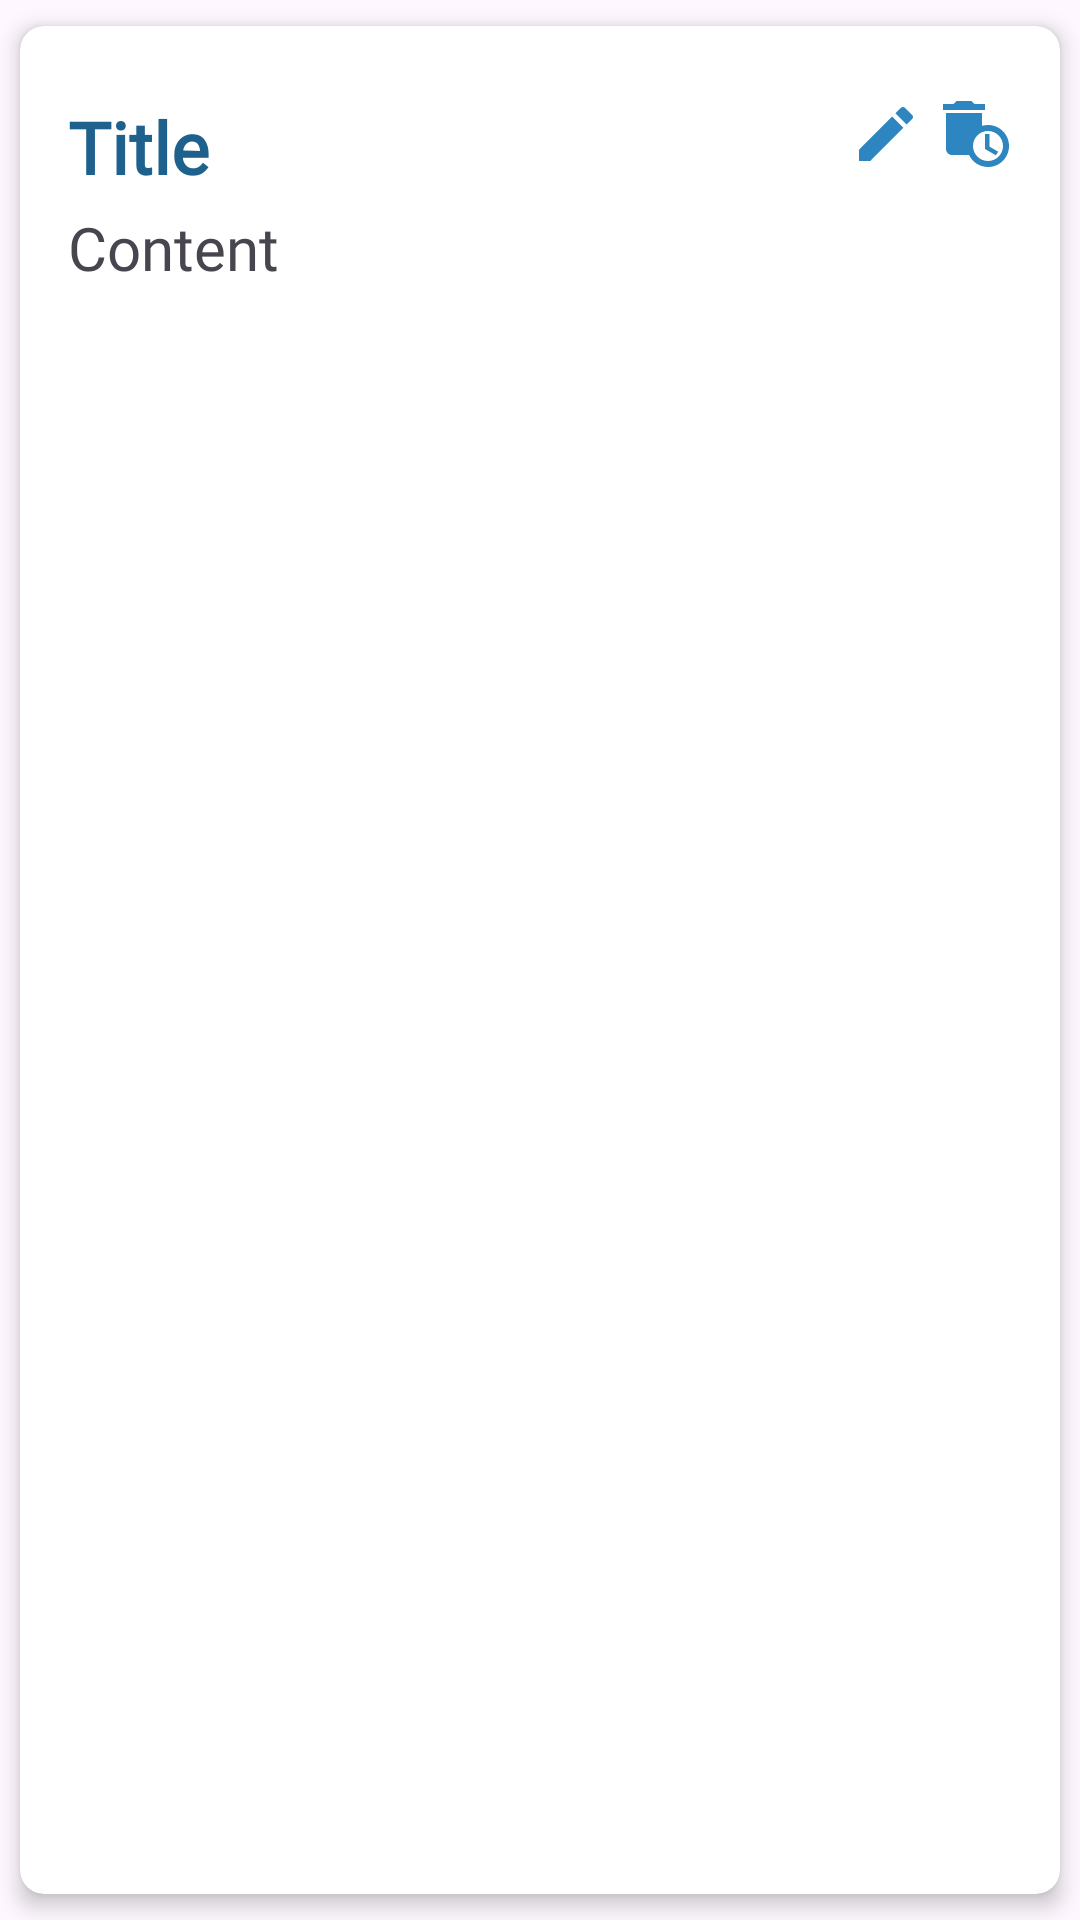

Where icons sit on this 1080px x 1920px app screen, as (left=x1, top=y1, right=x2, bottom=y2):
auto delete: (left=943, top=101, right=1009, bottom=167)
edit: (left=859, top=107, right=913, bottom=161)
